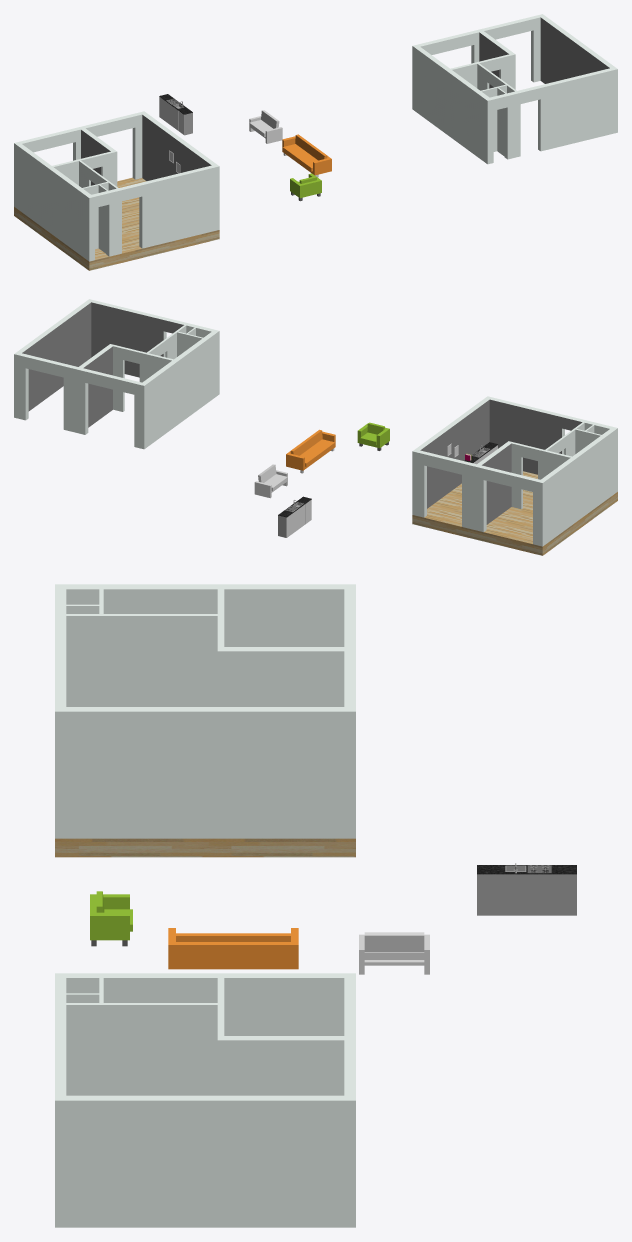
File: Studio test.fbx
3 views of the same model, one above another, from view 1: azimuth 30°, elevation 25°; view 2: azimuth 150°, elevation 25°; view 3: azimuth 270°, elevation 25° (orthographic). The views are drawn at different scales.
Parts seen in each view (by area): view 1: 3DGeom-78, 3DGeom-96, 3DGeom-81, 3DGeom-98, 3DGeom-80, 3DGeom-2, 3DGeom-4, 3DGeom-97, 3DGeom-79; view 2: 3DGeom-96, 3DGeom-78, 3DGeom-98, 3DGeom-80, 3DGeom-81, 3DGeom-79, 3DGeom-97, 3DGeom-2, 3DGeom-4; view 3: 3DGeom-78, 3DGeom-96, 3DGeom-81, 3DGeom-2, 3DGeom-10_2, 3DGeom-4.
Boxes of the visible parts, bbox=[...] form: 3DGeom-78: bbox=[14, 111, 219, 261]; 3DGeom-96: bbox=[412, 14, 617, 164]; 3DGeom-81: bbox=[14, 177, 219, 270]; 3DGeom-98: bbox=[540, 17, 609, 83]; 3DGeom-80: bbox=[142, 115, 211, 180]; 3DGeom-2: bbox=[282, 134, 331, 175]; 3DGeom-4: bbox=[290, 173, 321, 198]; 3DGeom-97: bbox=[479, 32, 508, 88]; 3DGeom-79: bbox=[81, 130, 110, 185]; 3DGeom-96: bbox=[14, 299, 219, 449]; 3DGeom-78: bbox=[412, 396, 617, 546]; 3DGeom-98: bbox=[22, 302, 183, 411]; 3DGeom-80: bbox=[420, 399, 582, 508]; 3DGeom-81: bbox=[412, 471, 617, 555]; 3DGeom-79: bbox=[482, 443, 511, 524]; 3DGeom-97: bbox=[83, 346, 112, 427]; 3DGeom-2: bbox=[286, 429, 335, 470]; 3DGeom-4: bbox=[357, 422, 389, 448]; 3DGeom-78: bbox=[55, 584, 355, 838]; 3DGeom-96: bbox=[55, 973, 355, 1227]; 3DGeom-81: bbox=[55, 838, 355, 857]; 3DGeom-2: bbox=[168, 928, 298, 969]; 3DGeom-10_2: bbox=[477, 874, 576, 915]; 3DGeom-4: bbox=[90, 891, 132, 940].
Bounding box in the file's own units: 24.4 × 10.44 × 3.21.
Materials: 16 (2 with a texture image).
